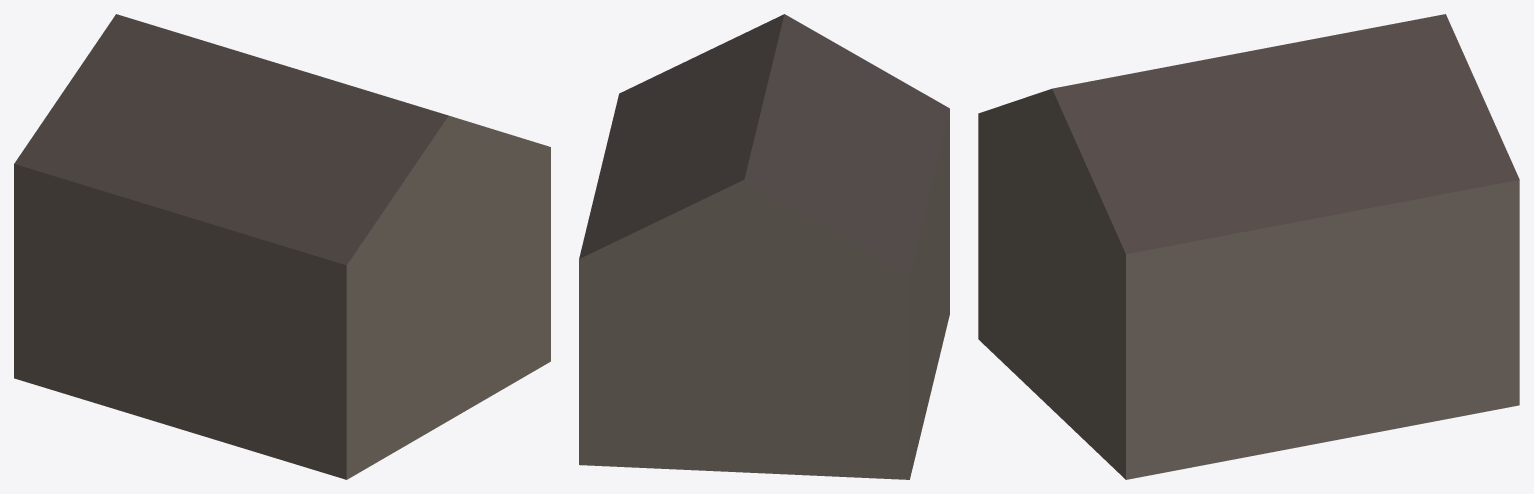
3 renders of one model, left to right at view 1: azimuth 30°, elevation 25°; view 2: azimuth 150°, elevation 25°; view 3: azimuth 270°, elevation 25°, orthographic. The views are drawn at different scales.
Parts seen in each view (by area): view 1: HP-w369342463; view 2: HP-w369342463; view 3: HP-w369342463.
Boxes of the visible parts, x1,y1,x2,y2 form: HP-w369342463: (14, 14, 550, 479); HP-w369342463: (579, 14, 949, 479); HP-w369342463: (978, 14, 1519, 479).
Size of the model in its own units: 18.43 by 12.8 by 19.58.
